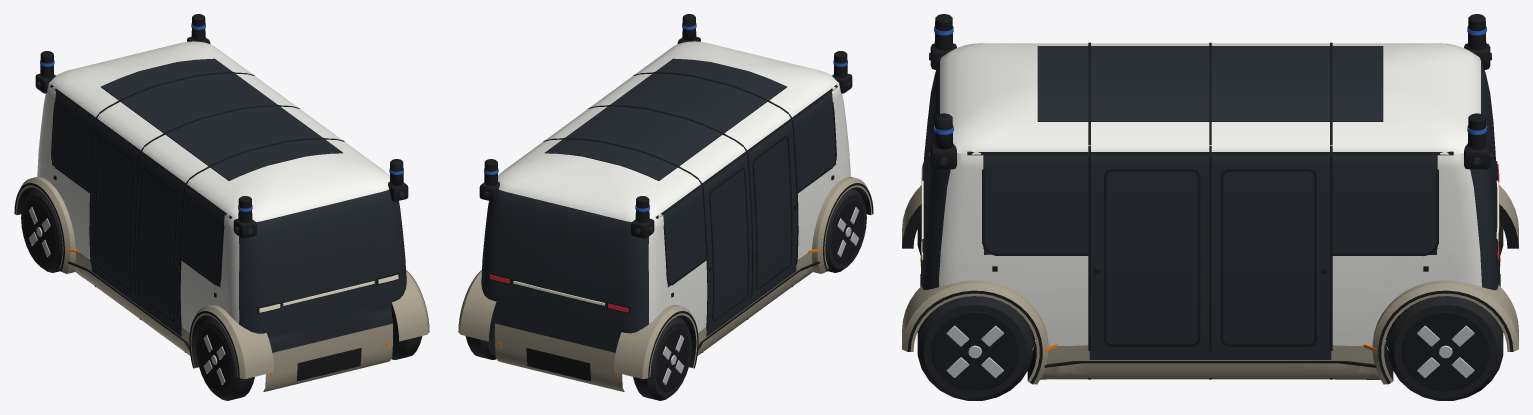
The model's file is zoox.glb.
The picture shows the model from 3 angles, left to right: view 1: azimuth 30°, elevation 25°; view 2: azimuth 150°, elevation 25°; view 3: azimuth 270°, elevation 25°; orthographic projection. The views are drawn at different scales.
Visible parts, largest first — view 1: body, wheel_FR, wheel_RR, wheel_FL; view 2: body, wheel_RR, wheel_FR, wheel_RL, lidar; view 3: body, wheel_FL, wheel_RL, lidar.
Part boxes in pixels (bbox=[...]): body: bbox=[14, 14, 429, 391]; wheel_FR: bbox=[196, 316, 254, 400]; wheel_RR: bbox=[21, 188, 62, 272]; wheel_FL: bbox=[391, 322, 422, 359]; body: bbox=[458, 36, 873, 391]; wheel_RR: bbox=[633, 316, 691, 400]; wheel_FR: bbox=[825, 188, 866, 272]; wheel_RL: bbox=[465, 322, 496, 359]; lidar: bbox=[682, 14, 696, 40]; body: bbox=[902, 14, 1518, 384]; wheel_FL: bbox=[917, 296, 1032, 400]; wheel_RL: bbox=[1388, 296, 1503, 400]; lidar: bbox=[934, 113, 953, 149].
Size of the model in its own units: 1.81 by 1.84 by 3.75.
